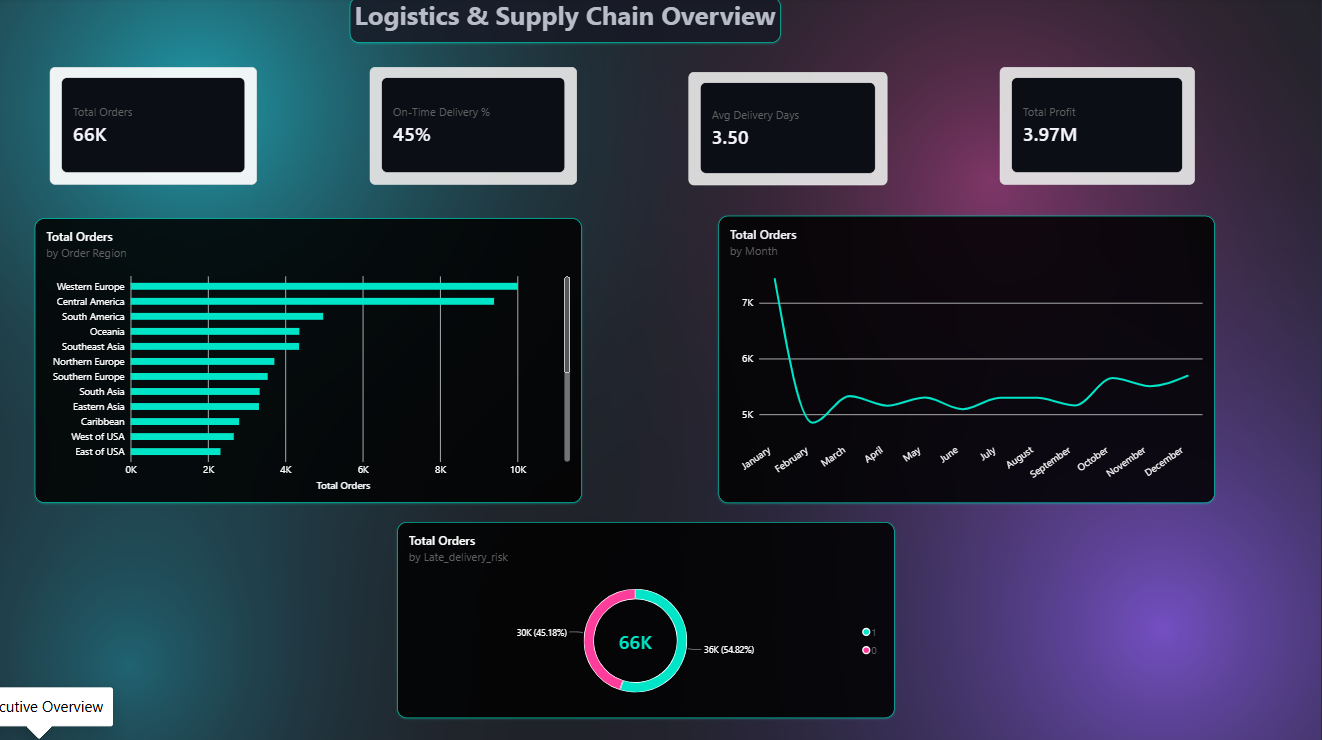

The dashboard page shown, as its layout file describes it:
{"tool":"powerbi","page":{"name":"Executive Overview","canvas":[1920,1080],"ordinal":0},"visuals":[{"type":"cardVisual","fields":{"Data":["'Measures'.Total Orders"]},"box":[78,102,300,170],"z":0},{"type":"cardVisual","fields":{"Data":["'Measures'.On-Time Delivery %"]},"box":[540.7,102,300,170],"z":1000},{"type":"cardVisual","fields":{"Data":["'Measures'.Avg Delivery Days"]},"box":[1003.3,108,288,164],"z":2000},{"type":"cardVisual","fields":{"Data":["'Measures'.Total Profit"]},"box":[1454,102,282,170],"z":3000},{"type":"barChart","fields":{"Category":["DataCoSupplyChainDataset.Order Region"],"Y":["'Measures'.Total Orders"]},"box":[56,320,792,412],"z":4000},{"type":"lineChart","fields":{"Category":["Dim_Date.Date.Variation.Date Hierarchy.Month"],"Y":["'Measures'.Total Orders"]},"box":[1046,316,718,416],"z":5000},{"type":"donutChart","fields":{"Category":["DataCoSupplyChainDataset.Late_delivery_risk"],"Y":["'Measures'.Total Orders"]},"box":[580.4,759.5,720,284],"z":6000},{"type":"textbox","box":[512,0,624,66],"z":7000}]}

Visuals, with their boxes on the page's 1920x1080 design canvas (x1, y1, x2, y2). These are canvas units, not pixel positions in the 1322x740 screenshot, which may show the page scaled, cropped or inside an application window:
cardVisual - 'Measures'.Total Orders: bbox(78, 102, 378, 272)
cardVisual - 'Measures'.On-Time Delivery %: bbox(541, 102, 841, 272)
cardVisual - 'Measures'.Avg Delivery Days: bbox(1003, 108, 1291, 272)
cardVisual - 'Measures'.Total Profit: bbox(1454, 102, 1736, 272)
barChart - DataCoSupplyChainDataset.Order Region x 'Measures'.Total Orders: bbox(56, 320, 848, 732)
lineChart - Dim_Date.Date.Variation.Date Hierarchy.Month x 'Measures'.Total Orders: bbox(1046, 316, 1764, 732)
donutChart - DataCoSupplyChainDataset.Late_delivery_risk x 'Measures'.Total Orders: bbox(580, 760, 1300, 1044)
textbox: bbox(512, 0, 1136, 66)
